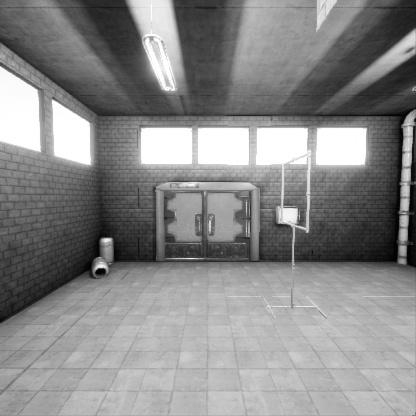gate: (281, 187, 311, 268)
